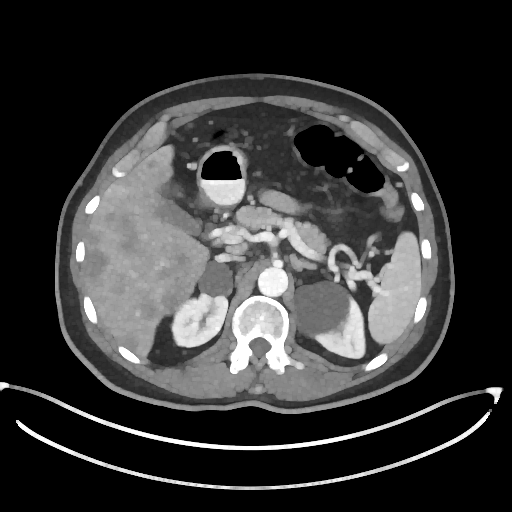Lesion: (291, 283, 352, 337)
